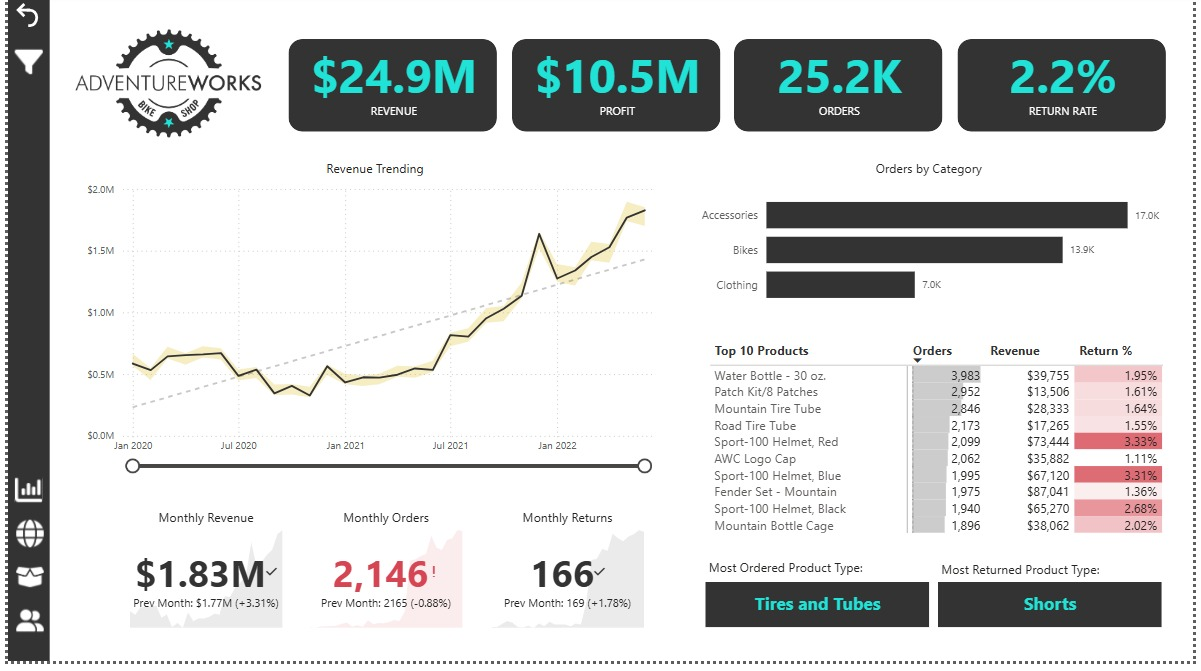

The page's visual inventory and layout, read from the dashboard file:
{"tool":"powerbi","page":{"name":"Exec Dashboard","canvas":[1280,720],"ordinal":0},"visuals":[{"type":"card","fields":{"Values":["Measure Table.Total Revenue"]},"box":[288.1,17.8,256.2,150],"z":0,"group":"g2"},{"type":"image","title":"AW Logo","box":[45.6,26.6,256.2,141.2],"z":0},{"type":"shape","box":[303.1,47.8,225,100],"z":0,"group":"g1"},{"type":"actionButton","box":[2.5,516.7,45.6,37.8],"z":0,"group":"g3"},{"type":"card","fields":{"Values":["Measure Table.Total Profit"]},"box":[528.9,17.8,256.2,150],"z":1000,"group":"g2"},{"type":"group","id":"g1","title":"KPI Backgrounds","box":[303.1,47.8,947.5,100],"z":1000},{"type":"shape","box":[543.9,47.8,225,100],"z":1000,"group":"g1"},{"type":"actionButton","box":[3.3,563.4,45.6,37.8],"z":1000,"group":"g3"},{"type":"shape","title":"Left Nav Background","box":[0,0,45,720],"z":2000},{"type":"card","fields":{"Values":["Measure Table.Total Orders"]},"box":[769.8,17.8,256.2,150],"z":2000,"group":"g2"},{"type":"shape","box":[784.8,47.8,225,100],"z":2000,"group":"g1"},{"type":"actionButton","box":[3.3,611.1,45.6,37.8],"z":2000,"group":"g3"},{"type":"group","id":"g2","title":"KPI Values","box":[288.1,17.8,978.8,150],"z":3000},{"type":"card","fields":{"Values":["Measure Table.Return Rate"]},"box":[1010.6,17.8,256.2,150],"z":3000,"group":"g2"},{"type":"shape","box":[1025.6,47.8,225,100],"z":3000,"group":"g1"},{"type":"actionButton","box":[3.3,657.8,45.6,37.8],"z":3000,"group":"g3"},{"type":"lineChart","title":"Revenue Trending","fields":{"Y":["Measure Table.Total Revenue"],"Category":["Calendar Lookup.Start of Month"]},"box":[78.9,177.7,633.8,342.5],"z":4000},{"type":"kpi","title":"Monthly Revenue","fields":{"Indicator":["Measure Table.Total Revenue"],"TrendLine":["Calendar Lookup.Start of Month"],"Goal":["Measure Table.Previous Month Revenue"]},"box":[126.2,555,175,133.8],"z":5000},{"type":"kpi","title":"Monthly Orders","fields":{"TrendLine":["Calendar Lookup.Start of Month"],"Indicator":["Measure Table.Total Orders"],"Goal":["Measure Table.Previous Month Orders"]},"box":[321.2,555,175,133.8],"z":6000},{"type":"kpi","title":"Monthly Returns","fields":{"TrendLine":["Calendar Lookup.Start of Month"],"Indicator":["Measure Table.Total Returns"],"Goal":["Measure Table.Previous Month Returns"]},"box":[516.2,555,175,133.8],"z":7000},{"type":"clusteredBarChart","title":"Orders by Category","fields":{"Category":["Product Categories Lookup.CategoryName"],"Y":["Measure Table.Total Orders"]},"box":[738.9,177.7,511.2,171.2],"z":8000},{"type":"pivotTable","fields":{"Rows":["Product Lookup.ProductName"],"Values":["Measure Table.Total Orders","Measure Table.Total Revenue","Measure Table.Return Rate"]},"box":[753.7,369.2,511.1,228.4],"z":9000},{"type":"card","fields":{"Values":["Min(Product Subcategories Lookup.SubcategoryName)"]},"box":[753.7,634.2,241.4,48.5],"z":10000},{"type":"textbox","box":[751.3,604.6,198.8,35.5],"z":11000},{"type":"card","fields":{"Values":["Min(Product Subcategories Lookup.SubcategoryName)"]},"box":[1004.1,634.2,241.4,48.5],"z":12000},{"type":"textbox","box":[1002.2,605.2,198.8,35.5],"z":13000},{"type":"actionButton","box":[3.3,5.6,35.6,35.6],"z":14000},{"type":"group","id":"g3","title":"Navigation Buttons","box":[2.5,516.7,46.4,178.9],"z":15000},{"type":"actionButton","box":[3.4,53.1,38.4,39.6],"z":16000}]}

Visuals, with their boxes on the page's 1280x720 design canvas (x1, y1, x2, y2). These are canvas units, not pixel positions in the 1201x671 screenshot, which may show the page scaled, cropped or inside an application window:
card - Measure Table.Total Revenue: box(288, 18, 544, 168)
"AW Logo" image: box(46, 27, 302, 168)
shape: box(303, 48, 528, 148)
actionButton: box(2, 517, 48, 554)
card - Measure Table.Total Profit: box(529, 18, 785, 168)
"KPI Backgrounds" group: box(303, 48, 1251, 148)
shape: box(544, 48, 769, 148)
actionButton: box(3, 563, 49, 601)
"Left Nav Background" shape: box(0, 0, 45, 720)
card - Measure Table.Total Orders: box(770, 18, 1026, 168)
shape: box(785, 48, 1010, 148)
actionButton: box(3, 611, 49, 649)
"KPI Values" group: box(288, 18, 1267, 168)
card - Measure Table.Return Rate: box(1011, 18, 1267, 168)
shape: box(1026, 48, 1251, 148)
actionButton: box(3, 658, 49, 696)
"Revenue Trending" lineChart: box(79, 178, 713, 520)
"Monthly Revenue" kpi: box(126, 555, 301, 689)
"Monthly Orders" kpi: box(321, 555, 496, 689)
"Monthly Returns" kpi: box(516, 555, 691, 689)
"Orders by Category" clusteredBarChart: box(739, 178, 1250, 349)
pivotTable - Product Lookup.ProductName x Measure Table.Total Orders: box(754, 369, 1265, 598)
card - Min(Product Subcategories Lookup.SubcategoryName): box(754, 634, 995, 683)
textbox: box(751, 605, 950, 640)
card - Min(Product Subcategories Lookup.SubcategoryName): box(1004, 634, 1246, 683)
textbox: box(1002, 605, 1201, 641)
actionButton: box(3, 6, 39, 41)
"Navigation Buttons" group: box(2, 517, 49, 696)
actionButton: box(3, 53, 42, 93)
